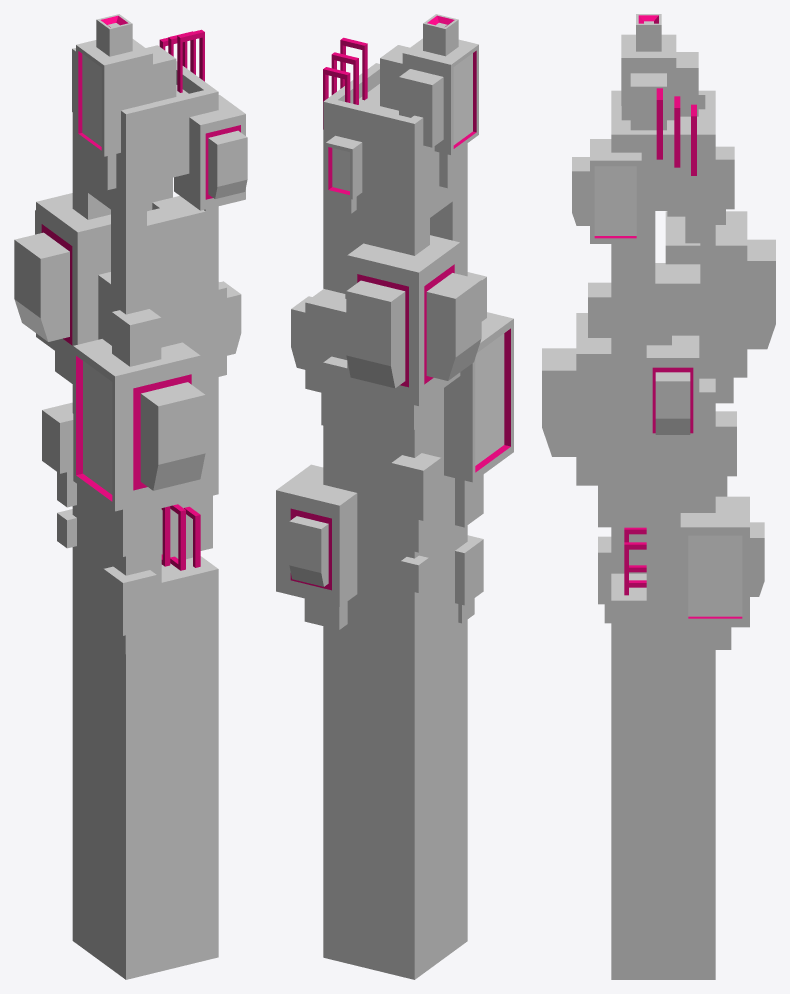
File: Building1_v3.fbx
3 views of the same model, side by side, from view 1: azimuth 30°, elevation 25°; view 2: azimuth 150°, elevation 25°; view 3: azimuth 270°, elevation 25° (orthographic). The views are drawn at different scales.
Visible parts, largest first — view 1: Updated; view 2: Updated; view 3: Updated.
Boxes of the visible parts, <box> form: Updated: <box>14,14,247,979</box>; Updated: <box>276,14,513,979</box>; Updated: <box>542,14,775,979</box>.
Bounding box in the file's own units: 2311 × 11079 × 2551.
